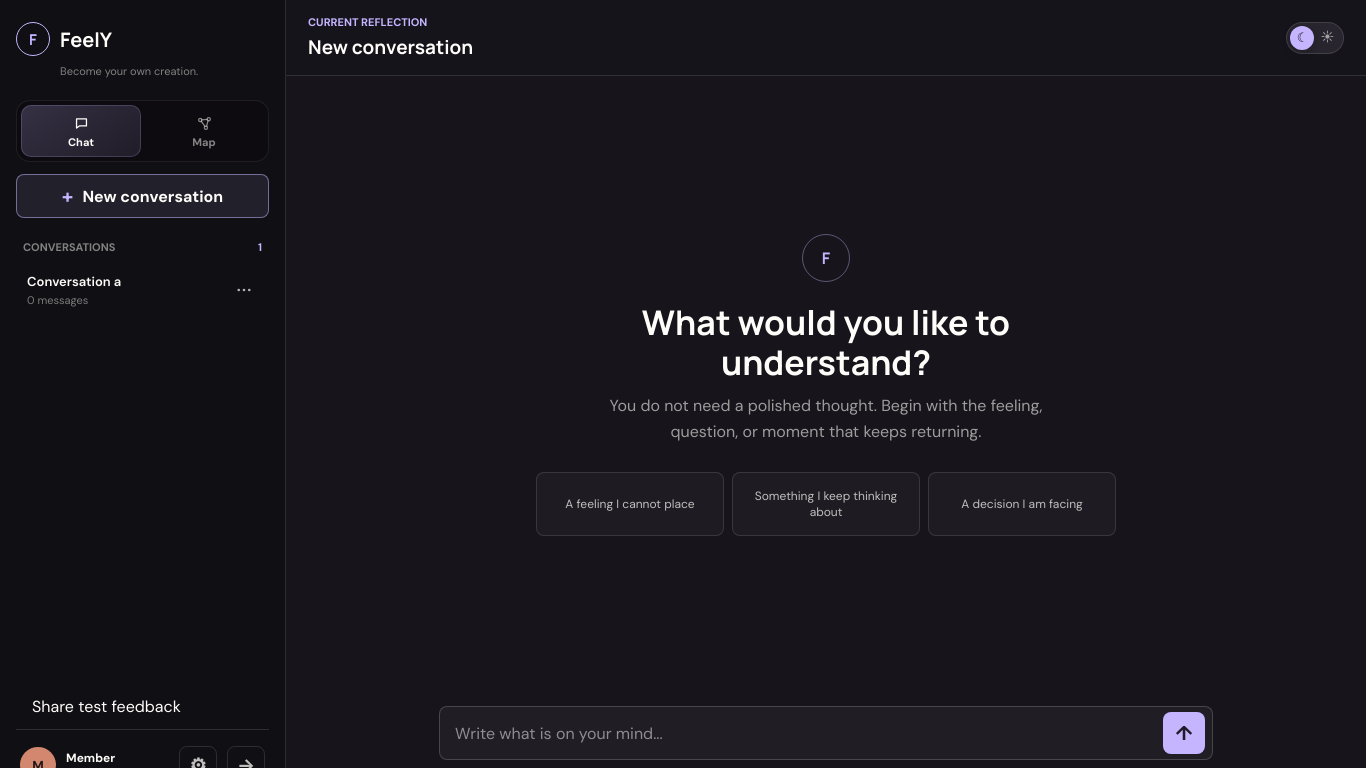
Test: real Chat shell/composer/history/stream › waiting/delta/Stop preserve exact original controls and no optimistic history persistence
The width and height of the screenshot is (1366, 768).
Later steps or results of the test are not shown.
Expected: the text box named "Message FeelY" is enabled, 445,712 -> 1153,754
Click the button "Conversation a 0 messages" at {"x": 142, "y": 290}, box 16,263 -> 267,317
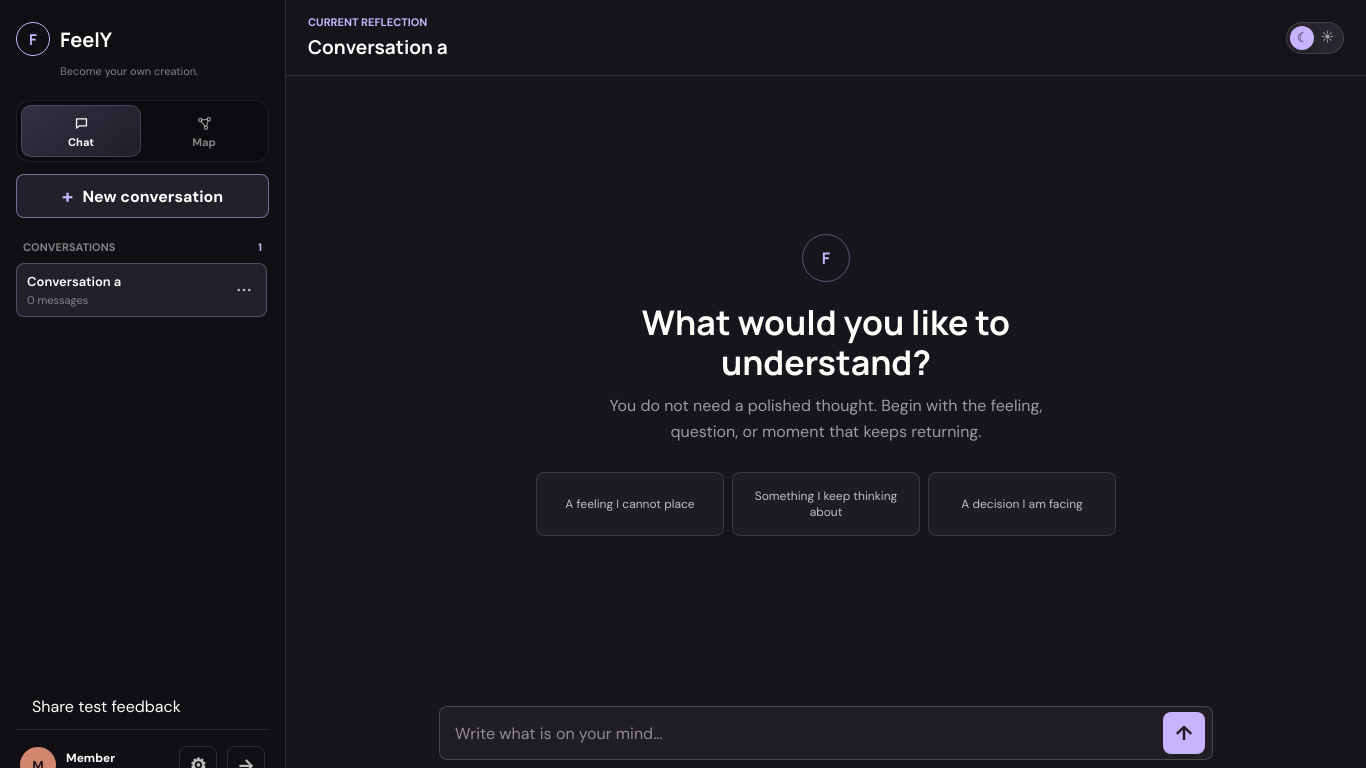
Expected: the button named "Send message" is enabled, 1163,712 -> 1205,754
Type "Hello" into the text box named "Message FeelY" at {"x": 799, "y": 733}, box 445,712 -> 1153,754
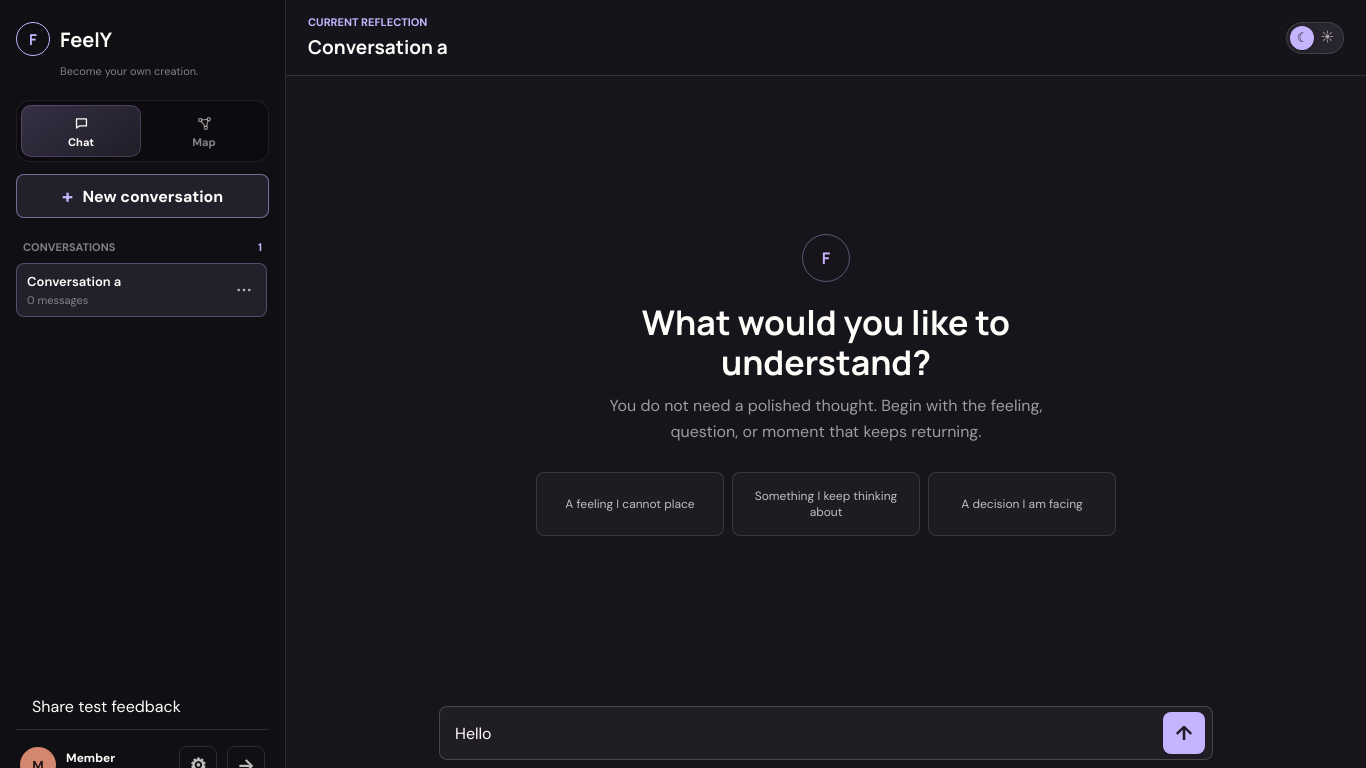
Click the button named "Send message" at {"x": 1184, "y": 733}, box 1163,712 -> 1205,754
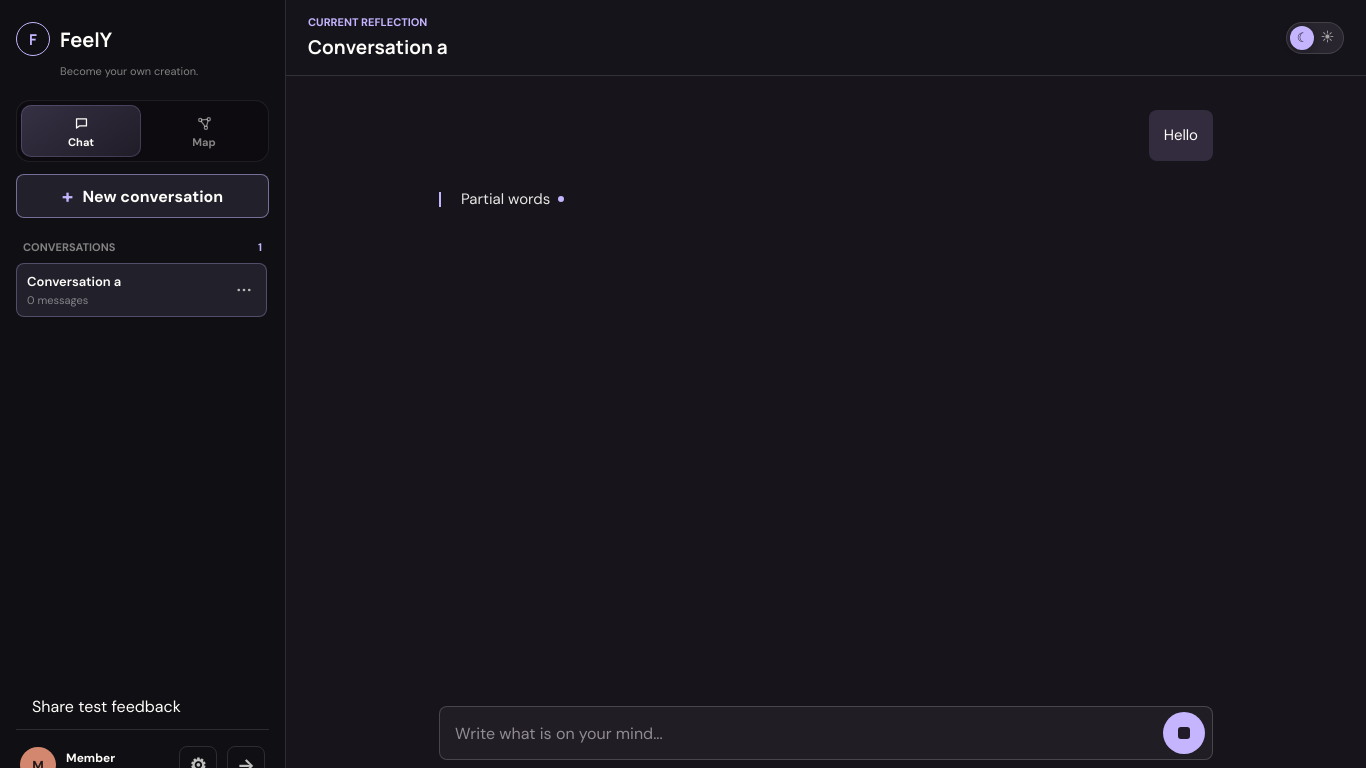
Expected: the text "Partial words" is shown, 461,189 -> 554,209
Type "Next draft" into the text box with placeholder "Write what is on your mind..." at {"x": 799, "y": 733}, box 445,712 -> 1153,754
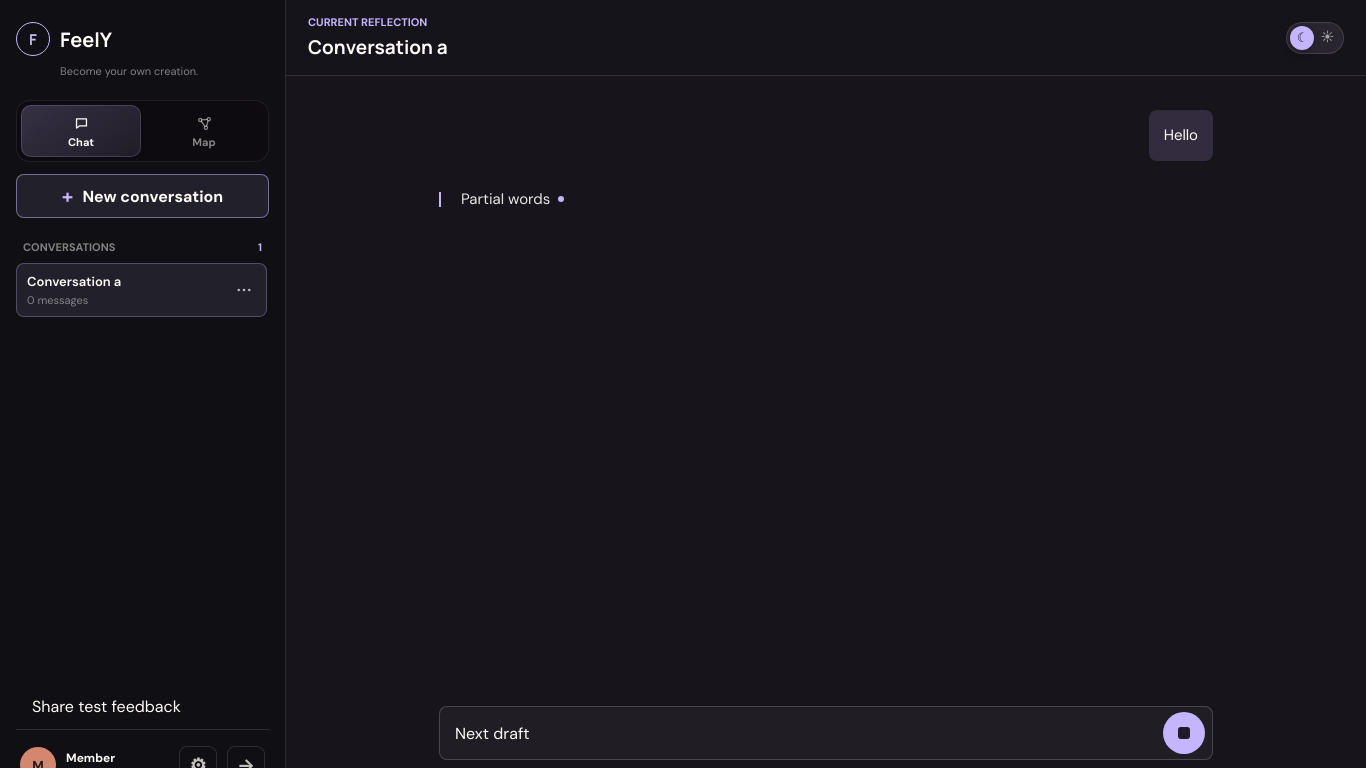
Click the button named "Stop response" at {"x": 1184, "y": 733}, box 1163,712 -> 1205,754
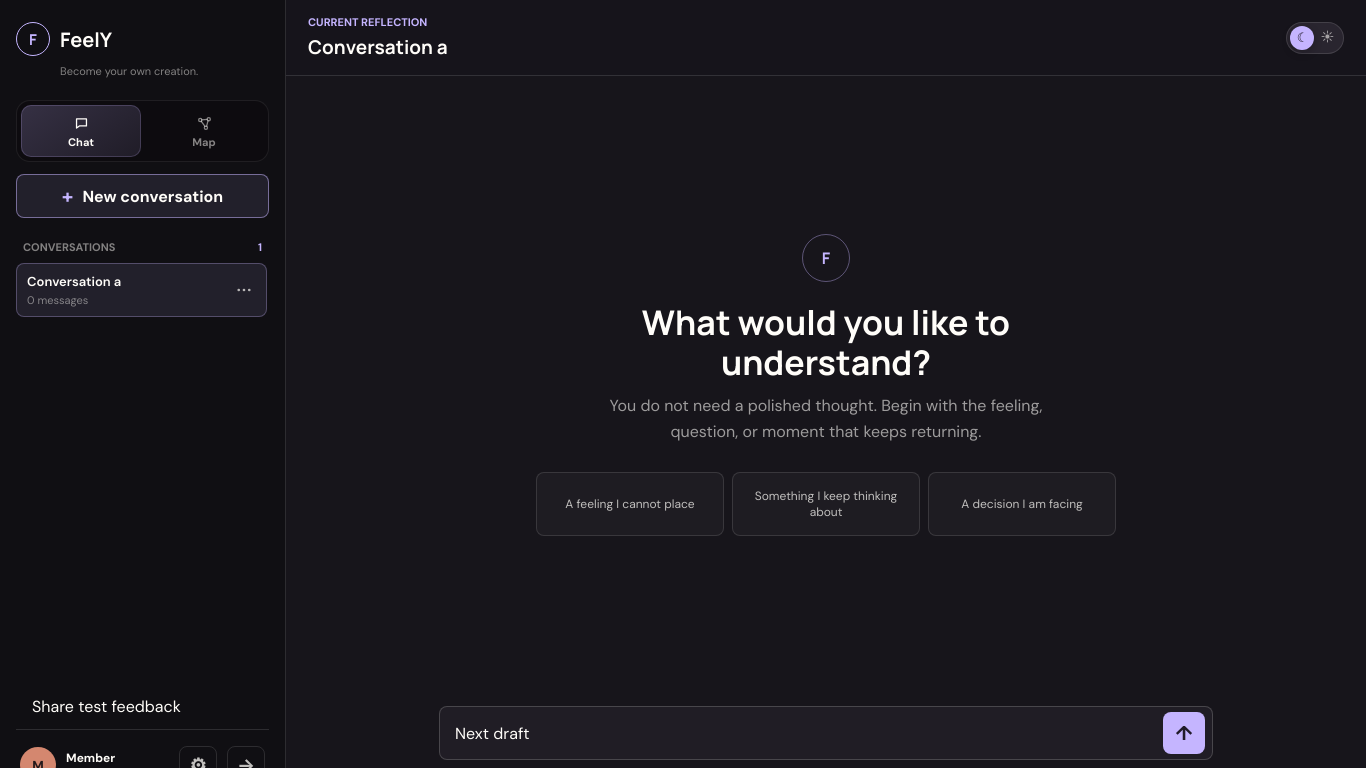
Expected: the button named "Send message" is shown, 1163,712 -> 1205,754
Expected: the text "Partial words" is gone
